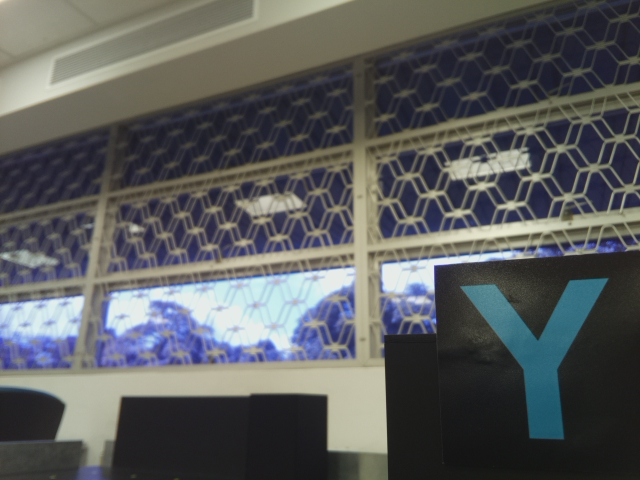y: (455, 279, 618, 439)
